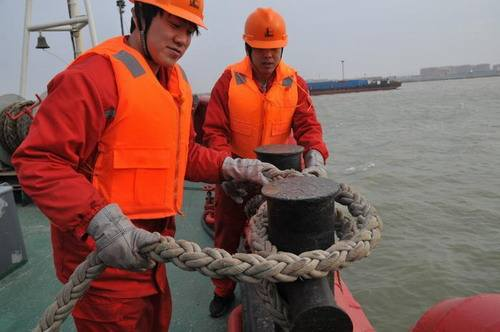reflective_clothes: (24, 33, 200, 239), (211, 54, 318, 161)
